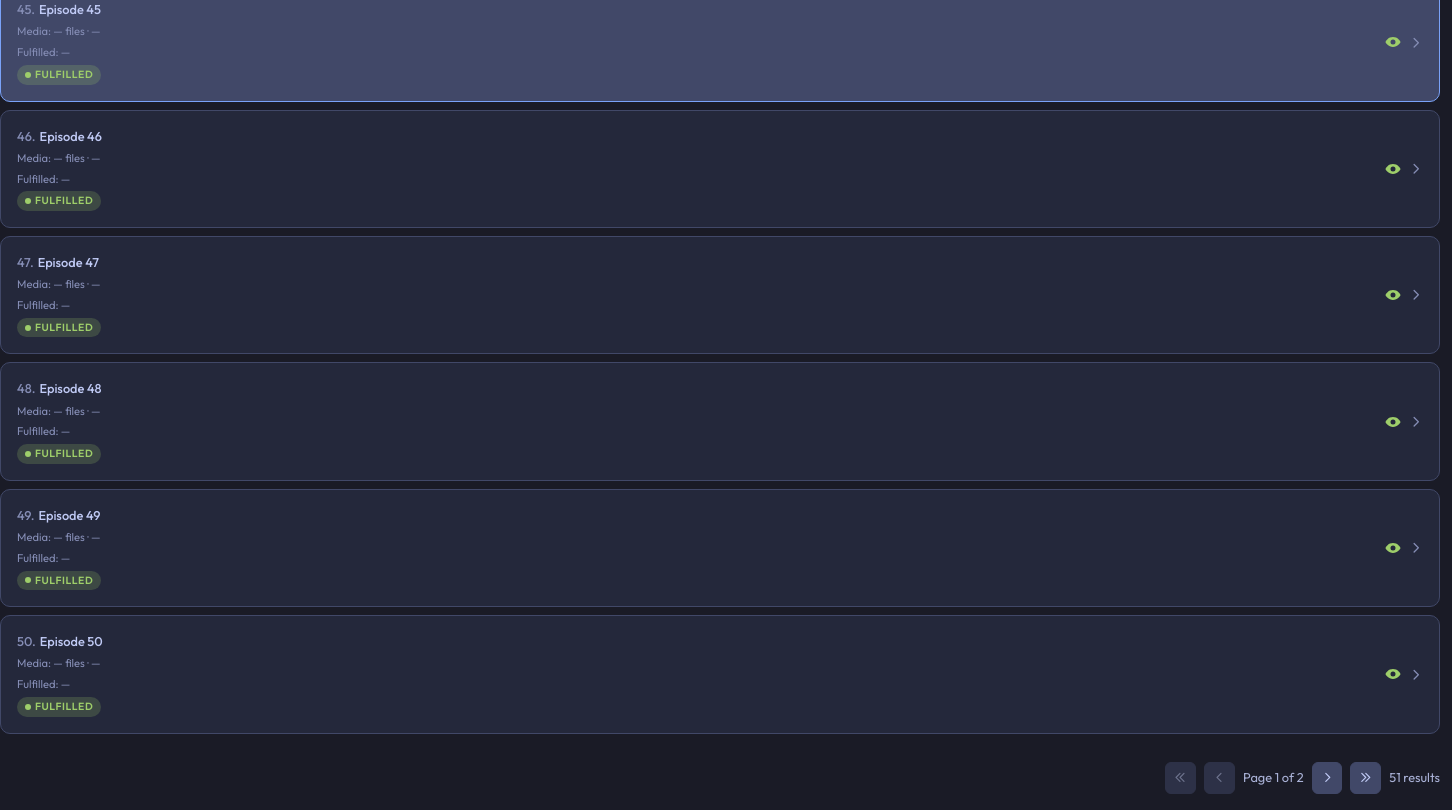
it: ChildrenTab card-layout pagination › pages the card list and reaches children beyond the first page
(page scrolled)
Expected: the text "Episode 51" is not shown
Expected: the text "Page 1 of 2" is shown, [1243, 768, 1304, 787]
Click the button named "Go to next page": (1327,778) [1312, 762, 1342, 794]
(page scrolled)
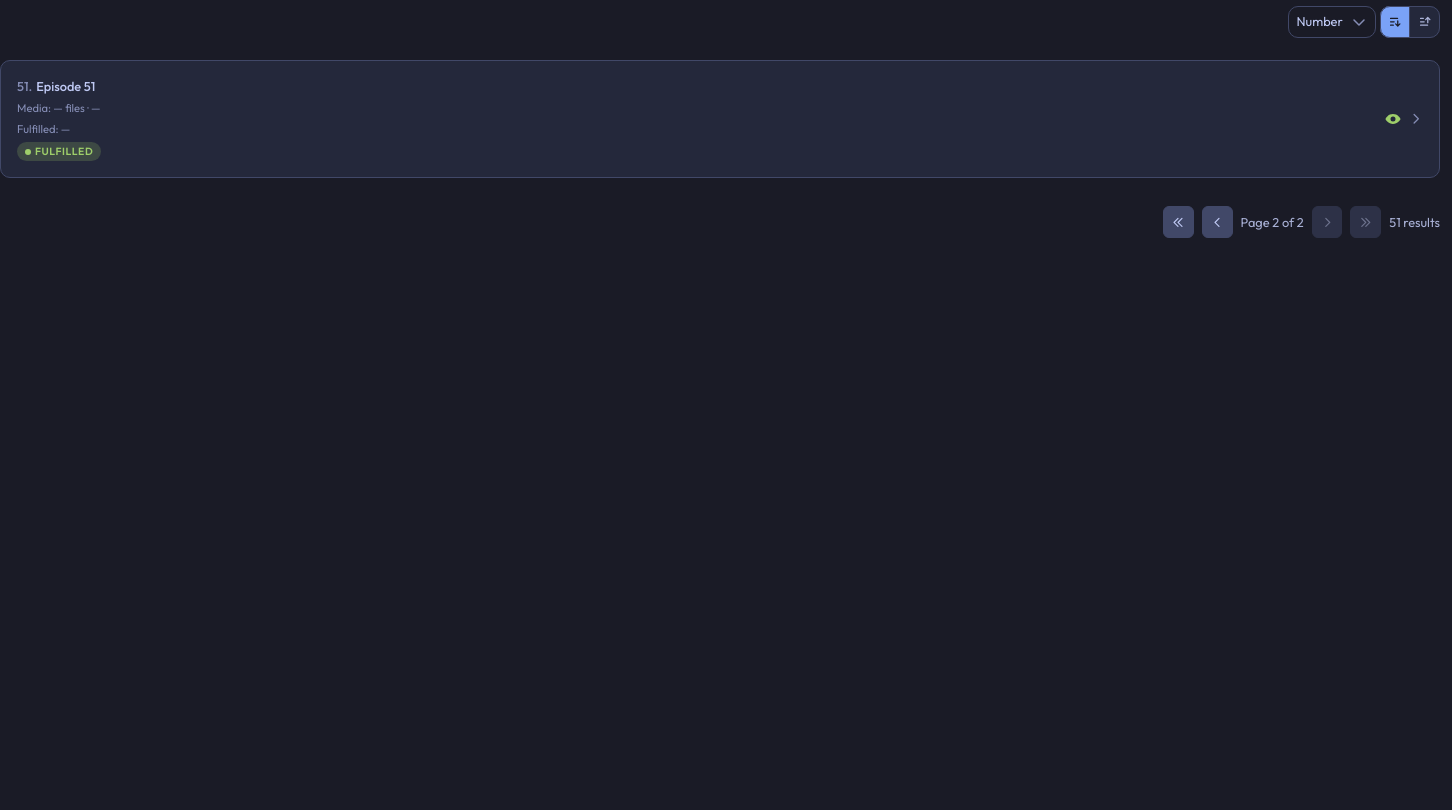
Result: the number of links is 1 at [0, 60, 1440, 178]
Result: the text "Episode 51" is shown at [36, 78, 95, 94]
Result: the text "Page 2 of 2" is shown at [1240, 213, 1304, 232]
